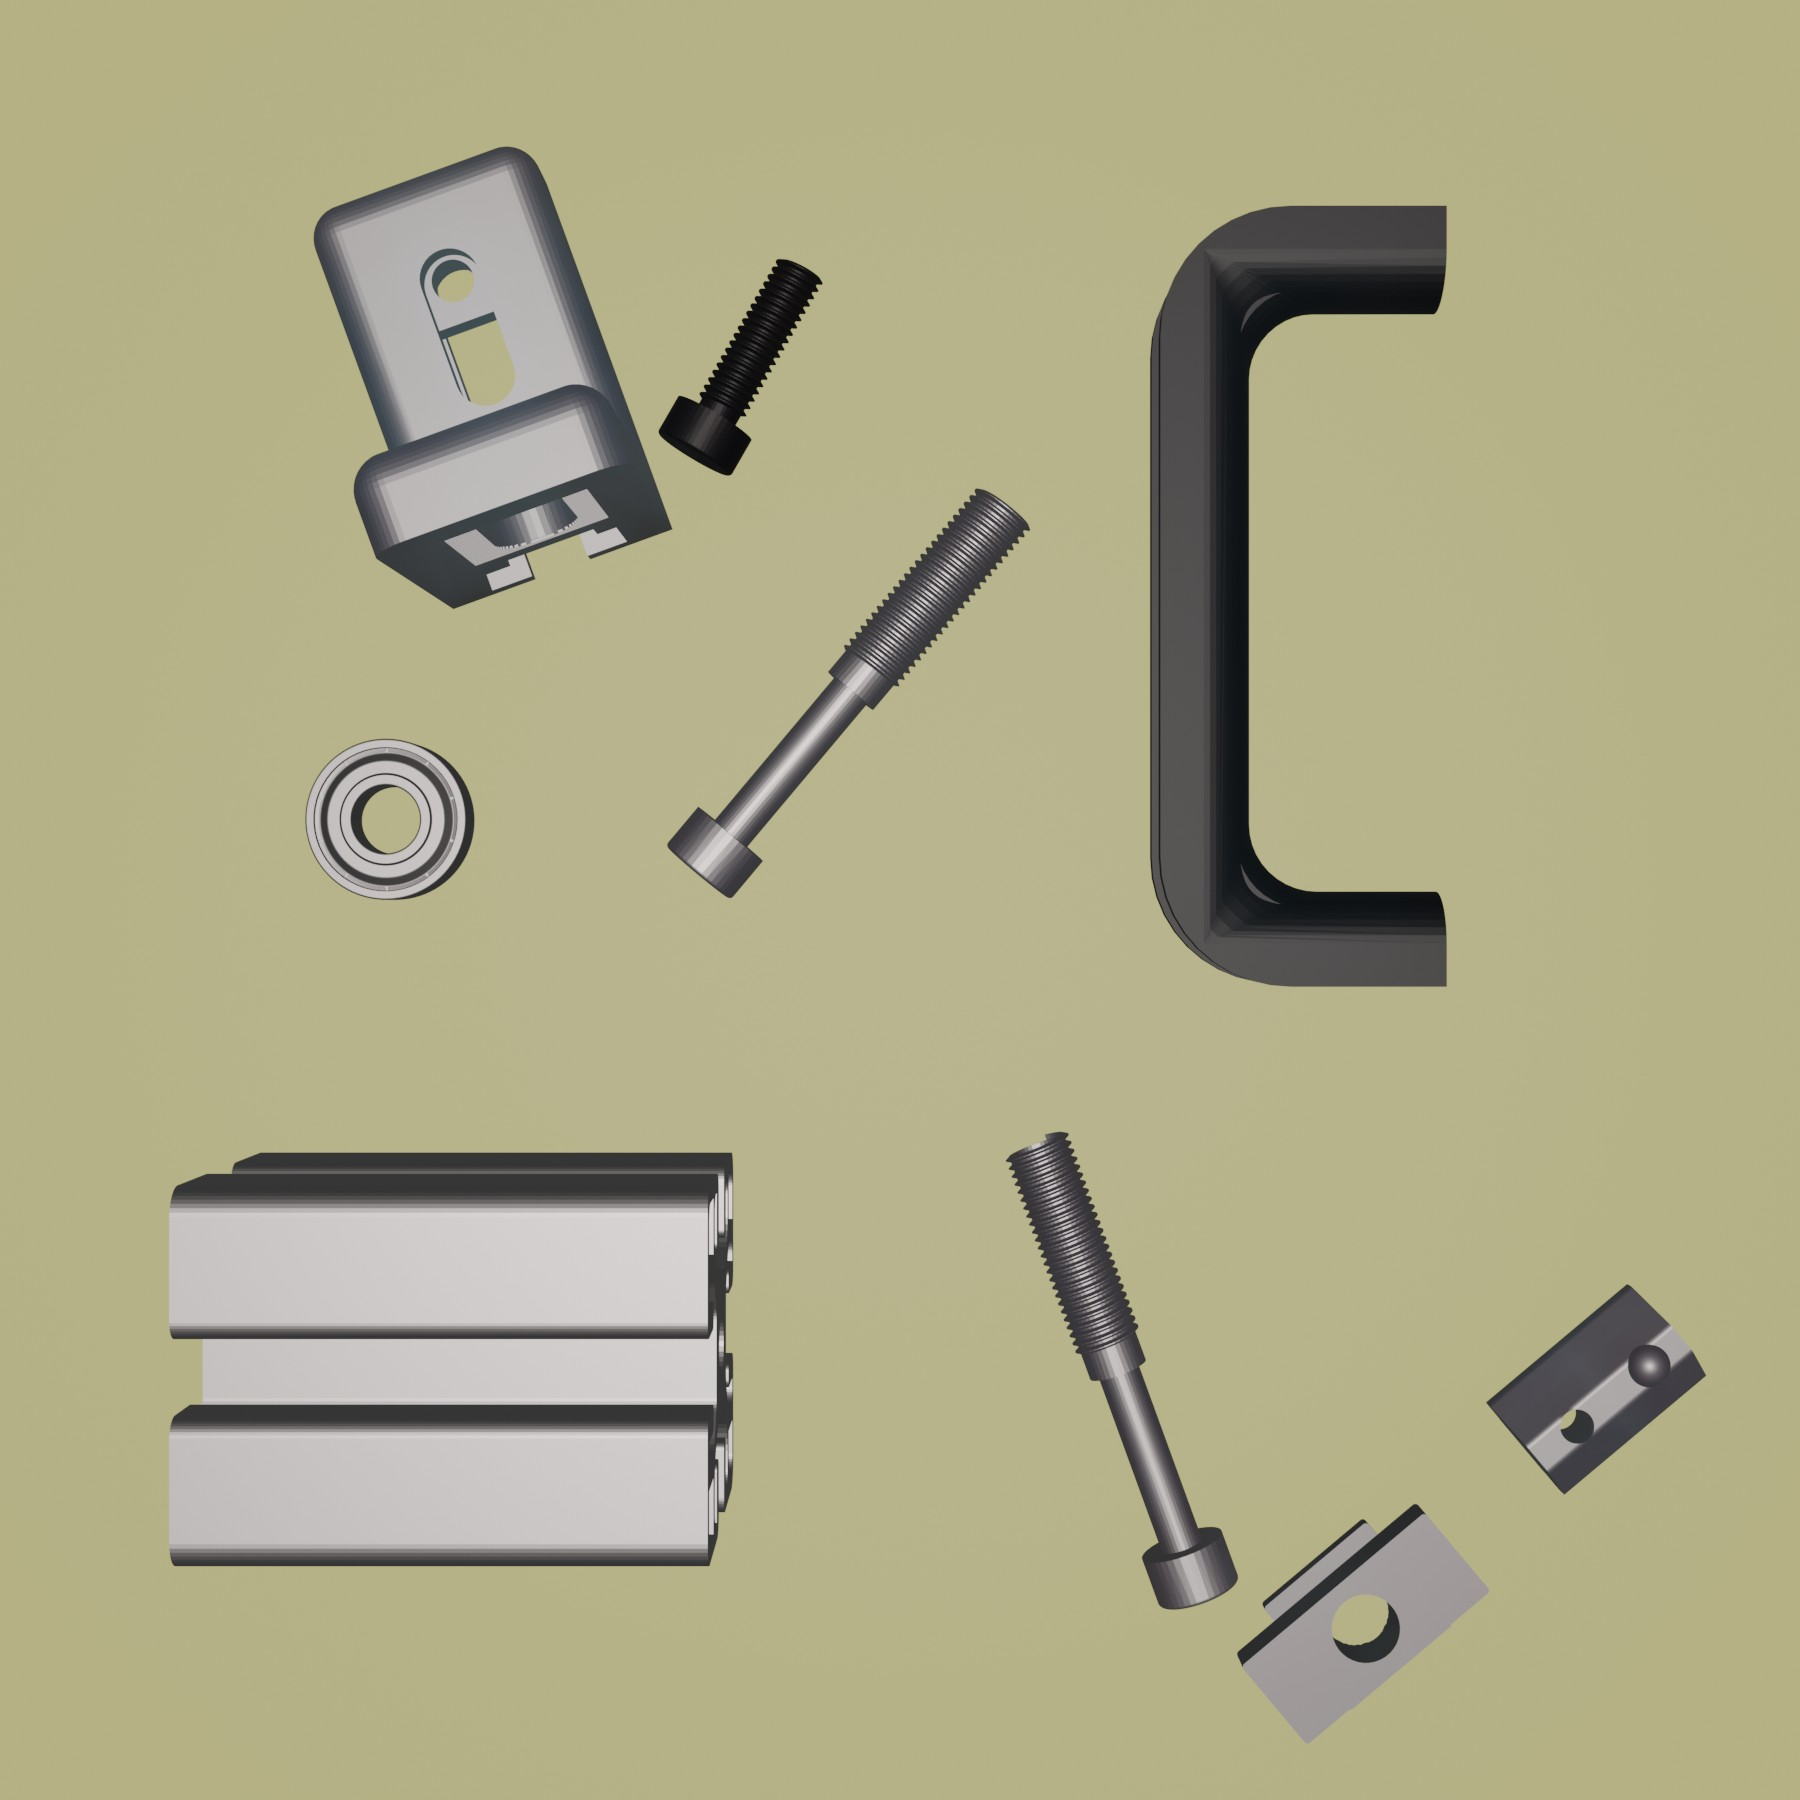Aluminium Extension: (162, 1146, 740, 1573)
Ball Bearing: (303, 735, 476, 903)
Multiwinkel: (312, 143, 676, 612)
Pull Handle: (1142, 201, 1451, 992)
Shoulder Socket Head Cap Screw: (664, 485, 1034, 902), (1004, 1127, 1238, 1610)
Socket Head Cap Screw: (654, 252, 823, 480)
T Nut Square: (1235, 1498, 1493, 1746)
T Spring Nut: (1482, 1281, 1706, 1497)
